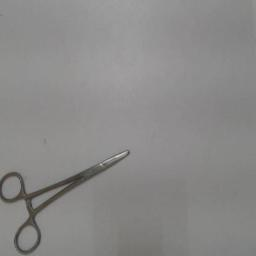Mayo Needle Holder: (0, 140, 140, 254)
